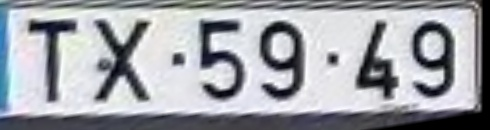4: (353, 19, 403, 102)
5: (196, 17, 247, 104)
9: (258, 17, 310, 105), (410, 19, 458, 102)
T: (25, 16, 83, 106)
X: (89, 17, 156, 107)
